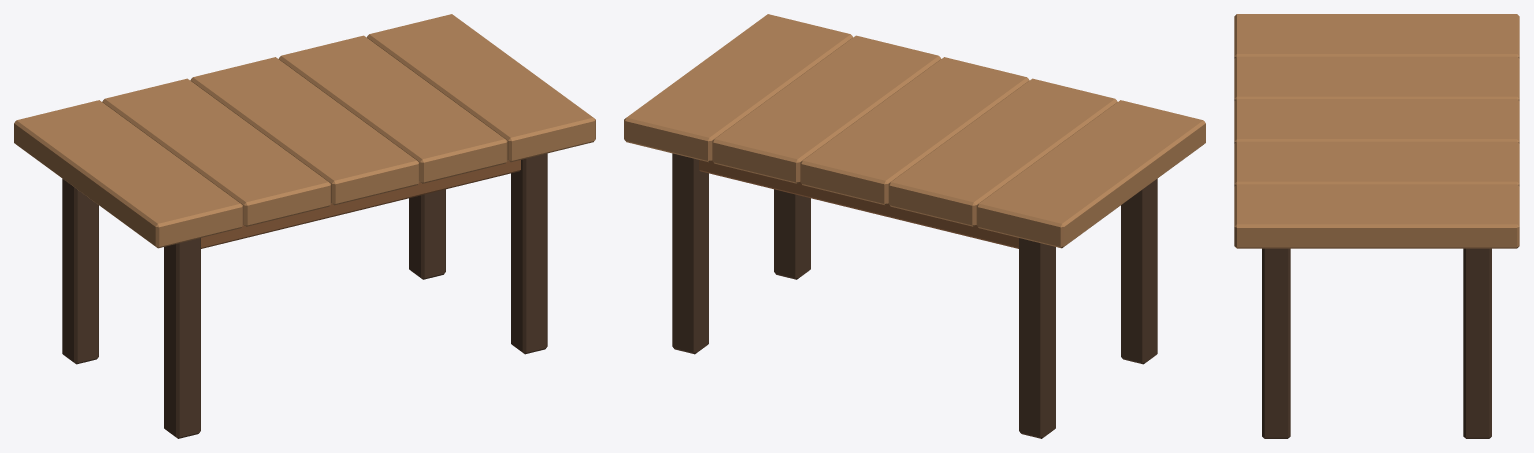
The model's file is patio_table.glb.
3 views of the same model, side by side, from view 1: azimuth 30°, elevation 25°; view 2: azimuth 150°, elevation 25°; view 3: azimuth 270°, elevation 25° (orthographic).
Parts seen in each view (by area): view 1: Alfa_patio_table; view 2: Alfa_patio_table; view 3: Alfa_patio_table.
Boxes of the visible parts, <box> form: Alfa_patio_table: <box>14,14,595,438</box>; Alfa_patio_table: <box>624,14,1205,438</box>; Alfa_patio_table: <box>1234,14,1519,438</box>.
Size of the model in its own units: 1.5 by 0.76 by 0.85.
